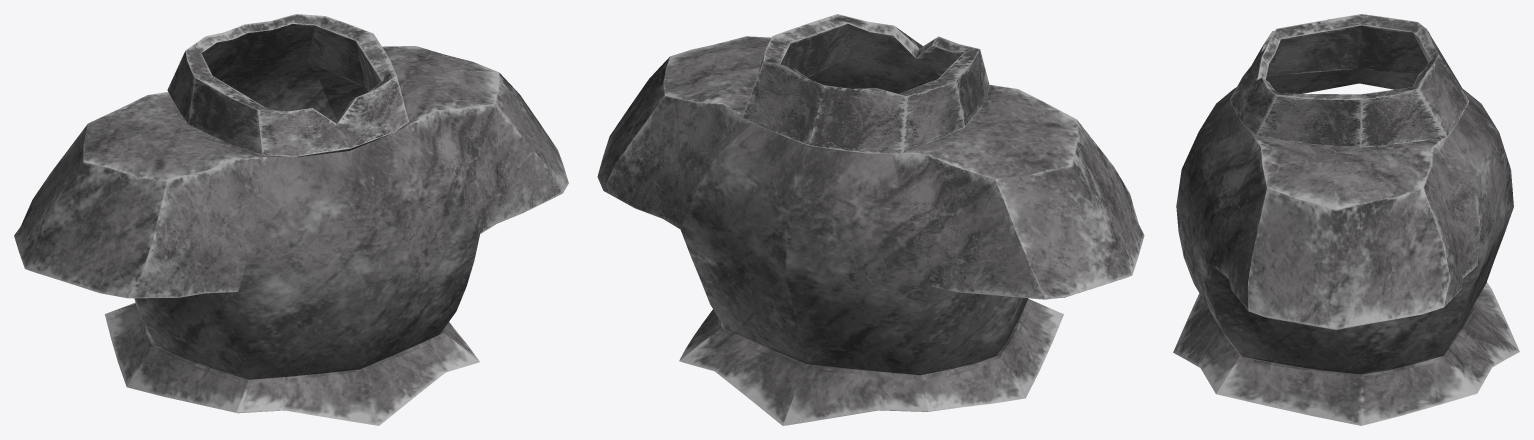
Rendered from ITM_DEFENSIVE_CHEST ARMOUR.fbx.
3 views of the same model, side by side, from view 1: azimuth 30°, elevation 25°; view 2: azimuth 150°, elevation 25°; view 3: azimuth 270°, elevation 25° (orthographic). The views are drawn at different scales.
Parts seen in each view (by area): view 1: itm_defensive_chest_piece; view 2: itm_defensive_chest_piece; view 3: itm_defensive_chest_piece.
Part boxes in pixels (x1,y1,x2,y2): itm_defensive_chest_piece: (14, 14, 568, 425); itm_defensive_chest_piece: (597, 14, 1144, 425); itm_defensive_chest_piece: (1173, 14, 1519, 425).
Size of the model in its own units: 210 by 119 by 123.
